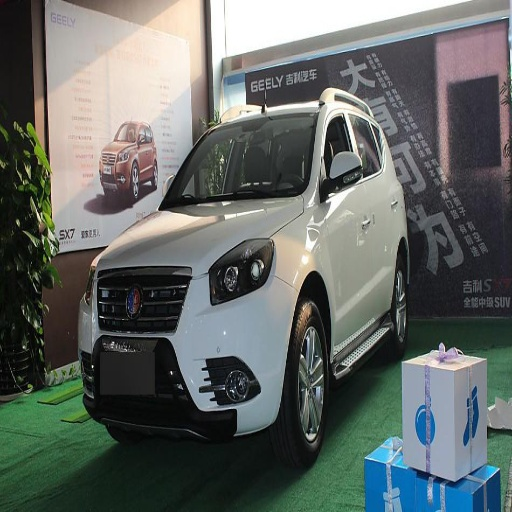front_bumper: (79, 255, 296, 440)
front_glass: (160, 118, 314, 210)
front_left_door: (319, 106, 373, 344)
